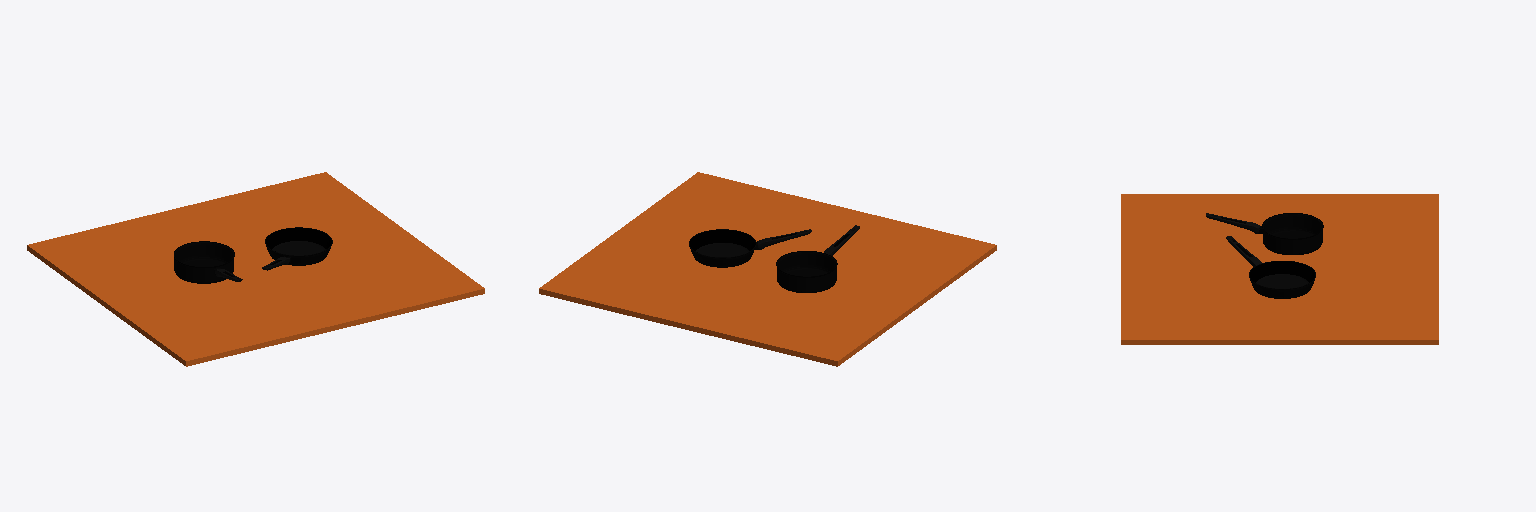
Rendered from pan_scene_material_manipulation.obj.
The picture shows the model from 3 angles: view 1: azimuth 30°, elevation 25°; view 2: azimuth 150°, elevation 25°; view 3: azimuth 270°, elevation 25°; orthographic projection.
Parts seen in each view (by area): view 1: Cube.002, Cylinder.003, Cylinder.005_Cylinder.005_Cylinder.005_Cylinder.005_Cylinder.005; view 2: Cube.002, Cylinder.003, Cylinder.005_Cylinder.005_Cylinder.005_Cylinder.005_Cylinder.005; view 3: Cube.002, Cylinder.003, Cylinder.005_Cylinder.005_Cylinder.005_Cylinder.005_Cylinder.005.
Part boxes in pixels (bbox=[...]): Cube.002: bbox=[27, 172, 484, 366]; Cylinder.003: bbox=[174, 241, 242, 283]; Cylinder.005_Cylinder.005_Cylinder.005_Cylinder.005_Cylinder.005: bbox=[262, 227, 332, 270]; Cube.002: bbox=[539, 172, 996, 366]; Cylinder.003: bbox=[776, 225, 859, 292]; Cylinder.005_Cylinder.005_Cylinder.005_Cylinder.005_Cylinder.005: bbox=[689, 229, 811, 267]; Cube.002: bbox=[1121, 194, 1438, 344]; Cylinder.003: bbox=[1206, 213, 1323, 254]; Cylinder.005_Cylinder.005_Cylinder.005_Cylinder.005_Cylinder.005: bbox=[1226, 236, 1315, 298].
Bounding box in the file's own units: 17.23 × 1.77 × 15.9.